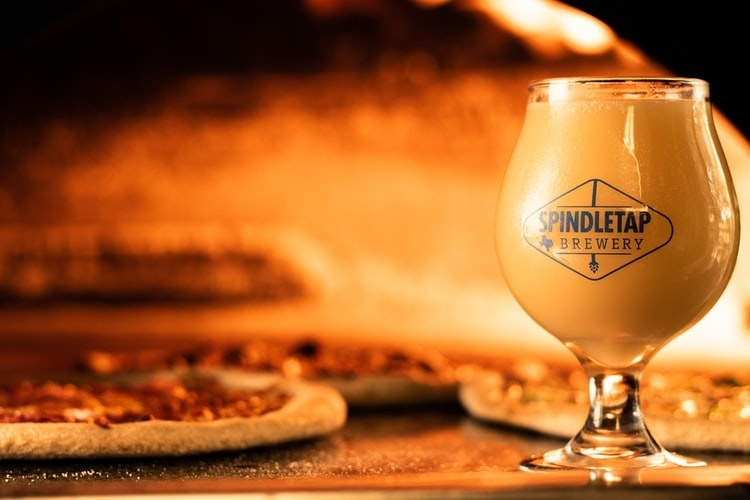whiskey: (491, 81, 726, 471)
